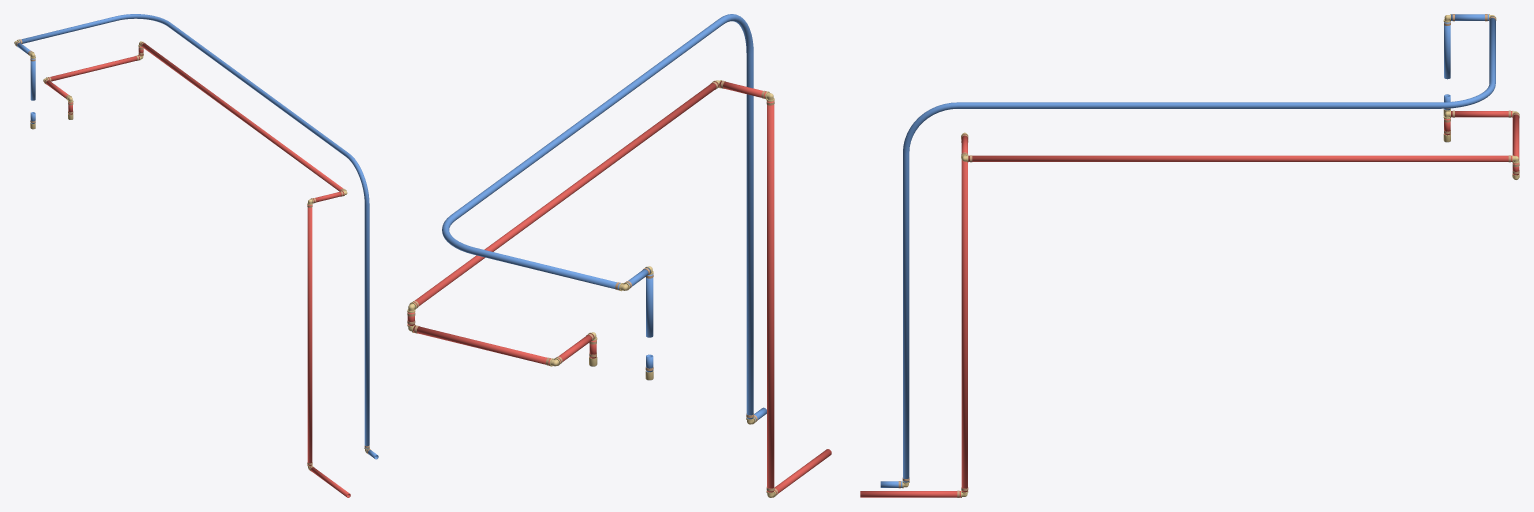
Rendered from slab_pipes_supply__water_heater-closet_gas_tank+closet_electric_tank_and_plumbing-pex+attic_repipe.glb.
3 renders of one model, left to right at view 1: azimuth 30°, elevation 25°; view 2: azimuth 150°, elevation 25°; view 3: azimuth 270°, elevation 25°, orthographic. The views are drawn at different scales.
Parts seen in each view (by area): view 1: pipe_supply_cold_wh_closet__pex, pipe_supply_hot_wh_closet__pex; view 2: pipe_supply_hot_wh_closet__pex, pipe_supply_cold_wh_closet__pex; view 3: pipe_supply_cold_wh_closet__pex, pipe_supply_hot_wh_closet__pex.
Boxes of the visible parts, box(x1,y1,x2,y2) form: pipe_supply_cold_wh_closet__pex: box(15, 14, 378, 459); pipe_supply_hot_wh_closet__pex: box(44, 42, 350, 497); pipe_supply_hot_wh_closet__pex: box(407, 81, 831, 493); pipe_supply_cold_wh_closet__pex: box(442, 14, 766, 420); pipe_supply_cold_wh_closet__pex: box(880, 14, 1495, 487); pipe_supply_hot_wh_closet__pex: box(860, 111, 1519, 497).
Bounding box in the file's own units: 0.7347 × 1.58 × 2.25.
